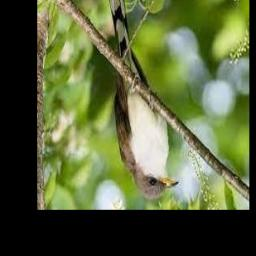Cuckoo: (106, 0, 178, 199)
